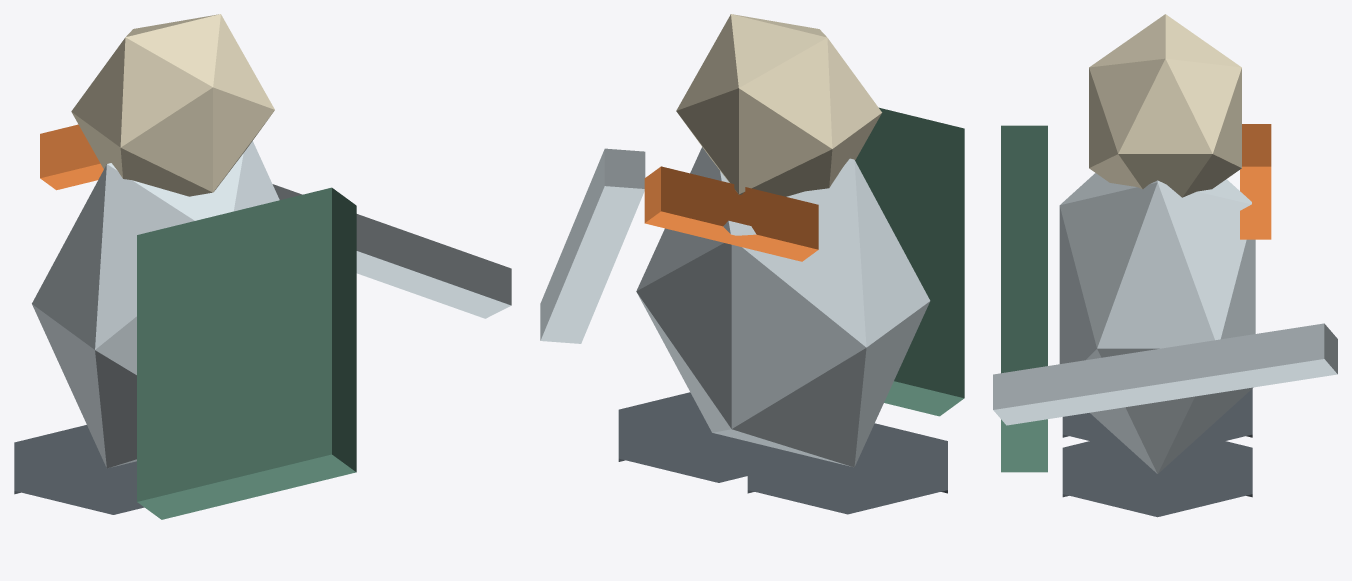
The model's file is player_knight.glb.
3 views of the same model, side by side, from view 1: azimuth 30°, elevation 25°; view 2: azimuth 150°, elevation 25°; view 3: azimuth 270°, elevation 25° (orthographic). The views are drawn at different scales.
Visible parts, largest first — view 1: cloak, armor, head, sword, boots, scarf; view 2: armor, head, cloak, boots, sword, scarf, boots_r; view 3: armor, head, sword, cloak, boots_r, scarf, boots.
Part boxes in pixels (left/top/right/bottom): cloak: left=137, top=187, right=356, bottom=519; armor: left=32, top=141, right=279, bottom=468; head: left=71, top=14, right=274, bottom=196; sword: left=272, top=184, right=511, bottom=318; boots: left=14, top=425, right=144, bottom=514; scarf: left=40, top=124, right=103, bottom=190; armor: left=636, top=147, right=930, bottom=467; head: left=676, top=14, right=882, bottom=196; cloak: left=855, top=107, right=964, bottom=416; boots: left=747, top=423, right=947, bottom=514; sword: left=540, top=148, right=645, bottom=343; scarf: left=644, top=166, right=818, bottom=261; boots_r: left=618, top=392, right=817, bottom=482; armor: left=1059, top=173, right=1255, bottom=473; head: left=1089, top=14, right=1241, bottom=197; sword: left=993, top=323, right=1337, bottom=425; cloak: left=1001, top=125, right=1047, bottom=472; boots_r: left=1062, top=436, right=1252, bottom=517; scarf: left=1240, top=124, right=1271, bottom=239; boots: left=1062, top=388, right=1252, bottom=449.
Bounding box in the file's own units: 1.18 × 1.28 × 0.8797.
